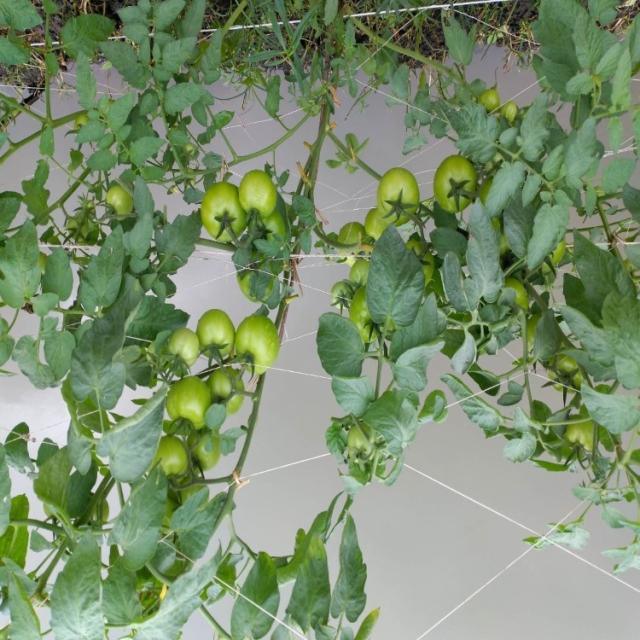tomato: (157, 367, 224, 440), (189, 179, 256, 248), (361, 159, 425, 228), (341, 283, 399, 348), (431, 143, 477, 216), (231, 311, 286, 371), (339, 422, 389, 488), (143, 425, 198, 484), (192, 299, 234, 376), (539, 350, 594, 404), (406, 227, 446, 296), (558, 410, 606, 464), (233, 171, 286, 218), (187, 428, 233, 478), (254, 201, 297, 254), (204, 359, 252, 405), (165, 328, 207, 376), (102, 176, 139, 223), (352, 208, 394, 239), (477, 85, 501, 124), (501, 108, 522, 133)
